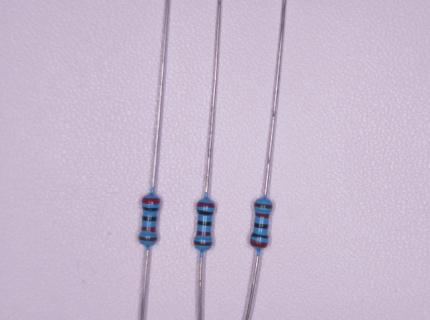Black band: (251, 233, 269, 238), (198, 210, 213, 216), (255, 223, 269, 229), (196, 221, 212, 226), (142, 217, 156, 221), (144, 208, 158, 212)
Brown band: (255, 203, 272, 209), (140, 237, 158, 241), (195, 242, 211, 246)
Red band: (251, 240, 268, 248), (197, 202, 215, 207), (142, 199, 159, 204), (255, 213, 270, 218), (142, 227, 156, 232), (197, 232, 211, 236)
